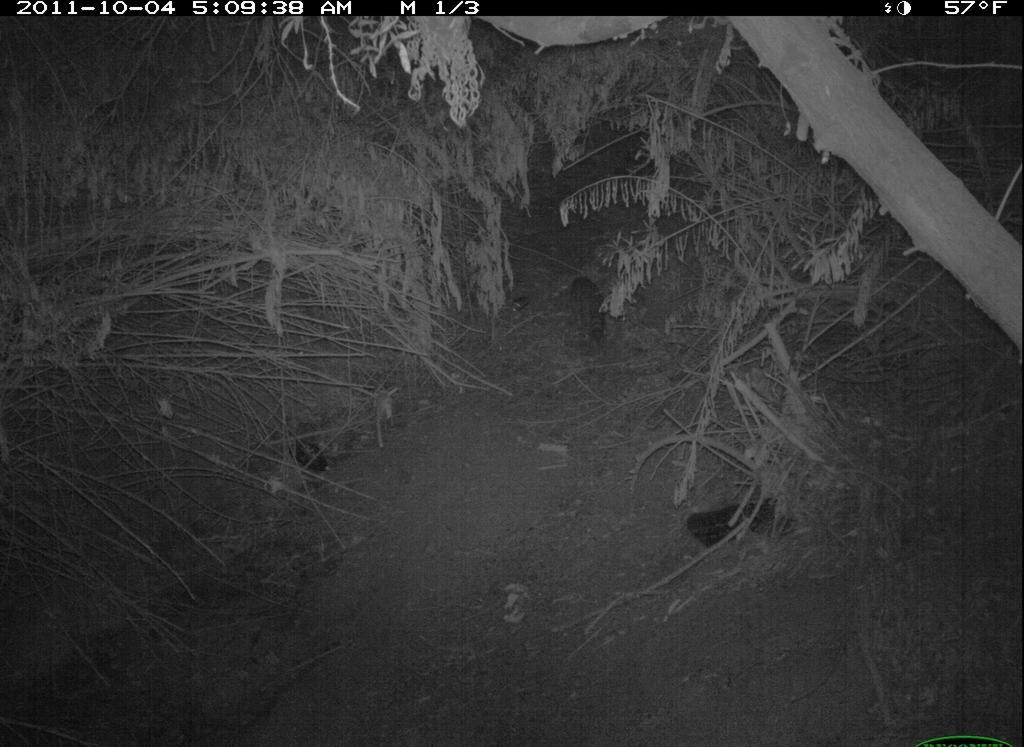raccoon: (561, 267, 623, 354)
